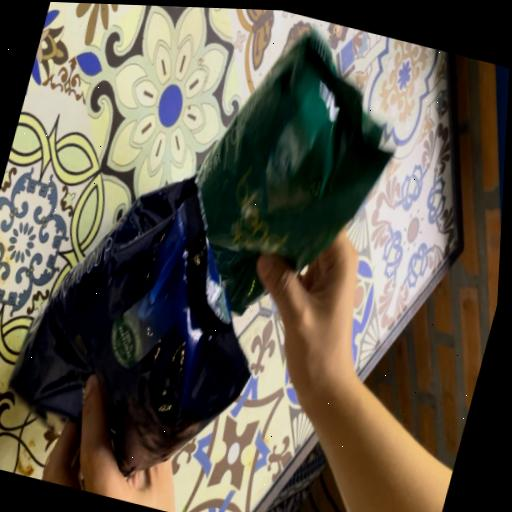cafe_hat: (10, 177, 248, 474)
cafe_xay: (195, 31, 390, 313)
